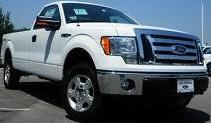front_view: (95, 24, 208, 104)
headlight: (97, 27, 149, 67)
side_glass: (32, 5, 68, 35)
